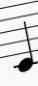LC: (10, 3, 37, 74)
